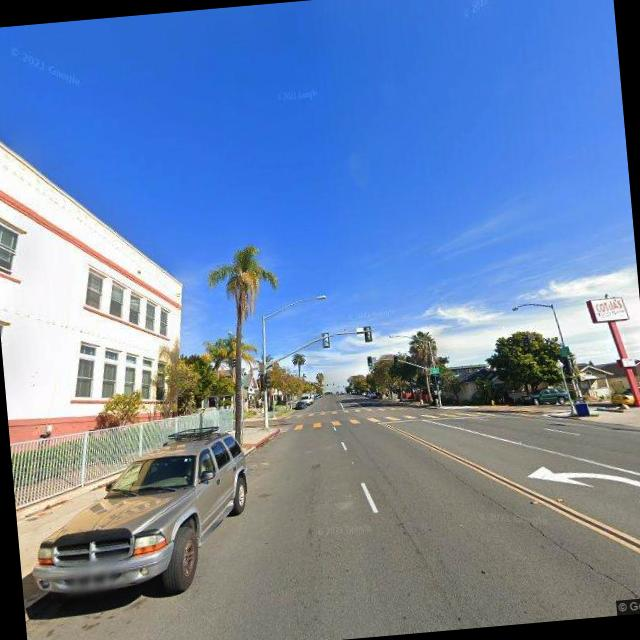crack: (444, 448, 636, 609)
